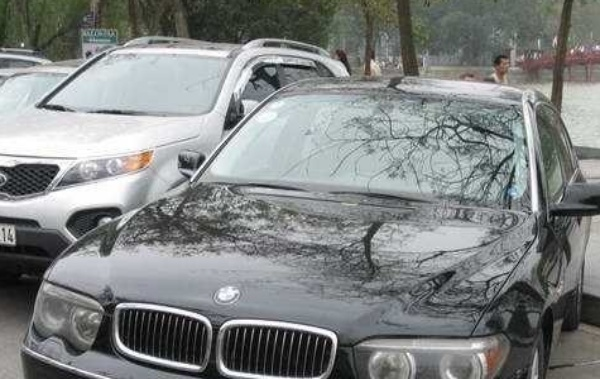plate: (2, 221, 15, 249)
